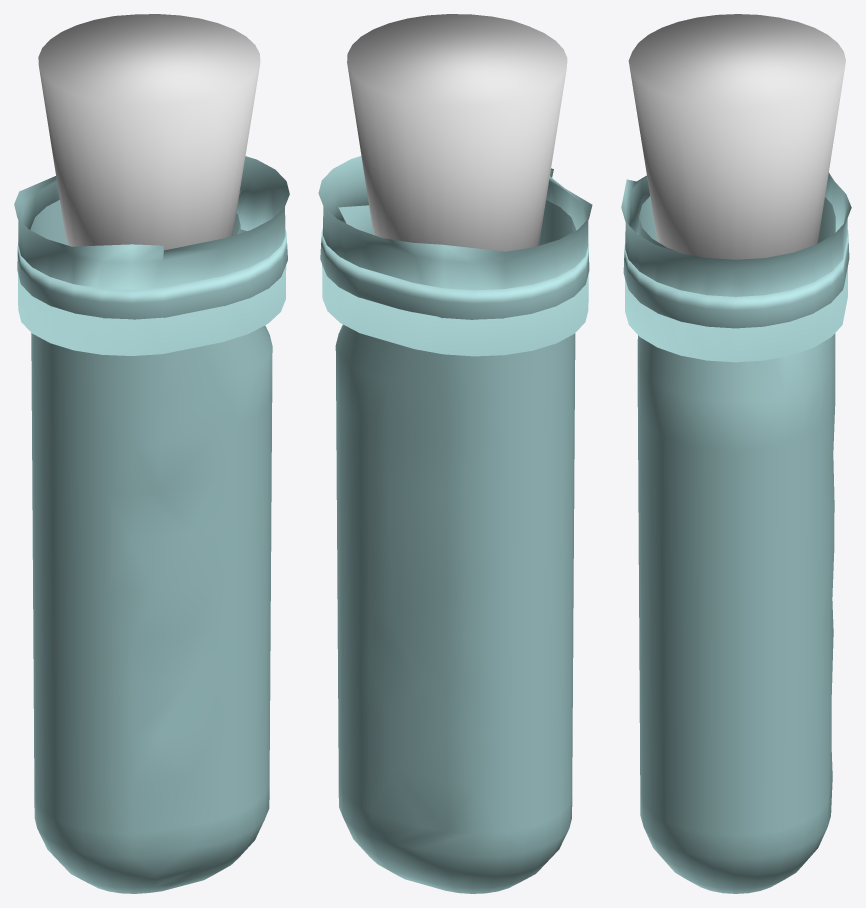
Rendered from potiuneclidindrumodcol.fbx.
3 views of the same model, side by side, from view 1: azimuth 30°, elevation 25°; view 2: azimuth 150°, elevation 25°; view 3: azimuth 270°, elevation 25° (orthographic).
Parts seen in each view (by area): view 1: Sphere.004, Cylinder; view 2: Sphere.004, Cylinder; view 3: Sphere.004, Cylinder.
Boxes of the visible parts, bbox=[...] form: Sphere.004: bbox=[14, 156, 289, 893]; Cylinder: bbox=[38, 14, 260, 250]; Sphere.004: bbox=[318, 156, 592, 893]; Cylinder: bbox=[347, 14, 567, 251]; Sphere.004: bbox=[621, 172, 851, 893]; Cylinder: bbox=[628, 14, 845, 259].
Bounding box in the file's own units: 323 × 1030 × 264.
